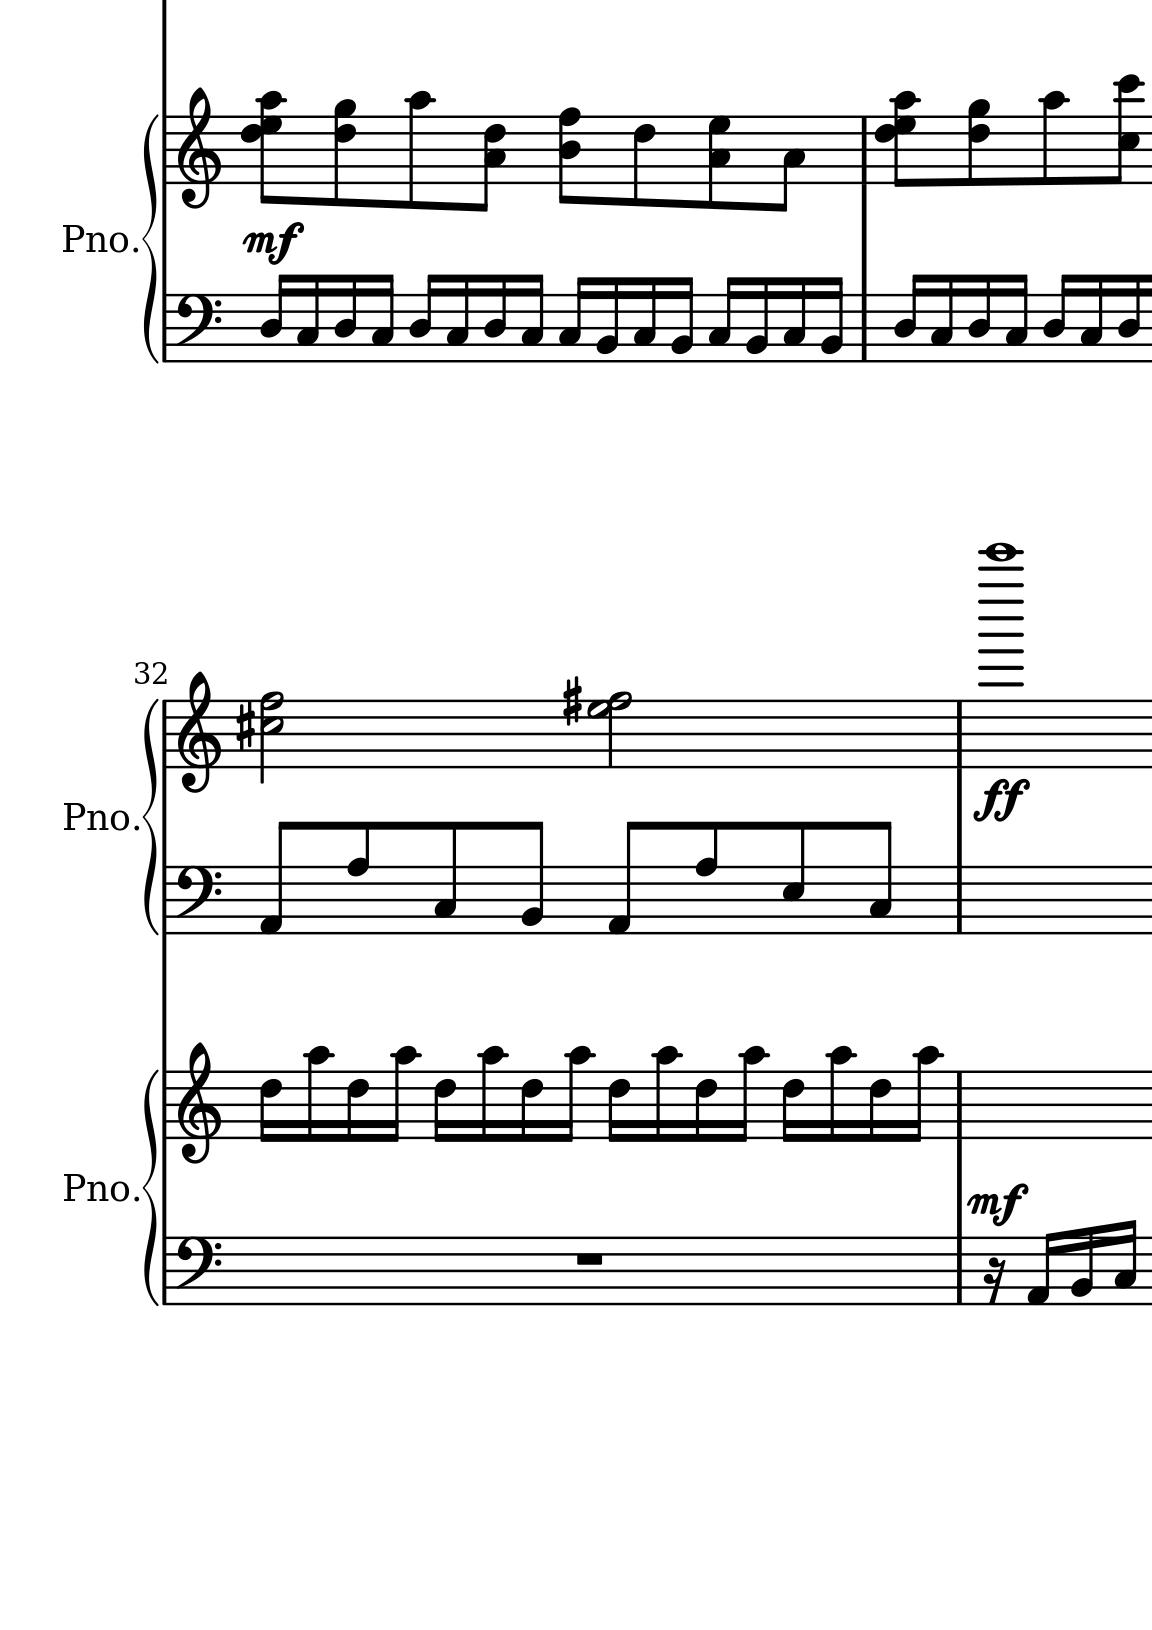16_1: (1026, 1229, 1060, 1308)
16_10: (383, 1043, 421, 1146), (732, 1043, 770, 1146), (557, 1043, 595, 1146), (906, 1043, 943, 1146), (304, 1046, 335, 1143), (478, 1046, 509, 1143), (652, 1046, 683, 1143), (827, 1046, 857, 1143)
16_2: (593, 275, 621, 365), (819, 275, 847, 364), (744, 275, 770, 364), (1068, 1225, 1096, 1307), (670, 275, 694, 365)
16_3: (556, 275, 590, 364), (706, 275, 739, 363), (928, 272, 956, 364), (294, 272, 322, 364), (444, 272, 471, 364), (1078, 273, 1106, 364), (631, 275, 658, 364), (780, 275, 808, 364), (519, 272, 545, 364), (369, 273, 395, 364), (1002, 273, 1029, 364), (1113, 1218, 1138, 1306)
16_4: (406, 270, 440, 364), (258, 272, 292, 364), (891, 272, 925, 364), (1041, 272, 1073, 364), (333, 272, 359, 364), (482, 272, 509, 364), (1117, 273, 1143, 364), (967, 273, 992, 364)
16_6: (257, 1069, 283, 1145), (431, 1069, 458, 1145), (344, 1069, 370, 1144), (693, 1069, 719, 1144), (519, 1069, 545, 1143), (607, 1069, 632, 1144), (780, 1070, 805, 1145), (868, 1069, 893, 1143)
2: (150, 660, 168, 685)
2_7_8: (586, 690, 635, 771)
3: (132, 660, 150, 685)
8_1: (254, 817, 295, 938), (603, 819, 645, 938)
8_10: (401, 88, 436, 212), (1040, 91, 1068, 187)
8_2: (517, 820, 546, 938)
8_3: (772, 113, 807, 216), (431, 819, 459, 938), (866, 819, 894, 938)
8_3_6: (475, 115, 505, 213)
8_3_7: (707, 113, 732, 212)
8_4_8: (559, 106, 582, 206)
8_5: (780, 820, 805, 938)
8_5_12: (1106, 72, 1145, 186)
8_6: (630, 113, 656, 207)
8_6_9: (333, 98, 357, 209), (967, 98, 991, 188)
8_8: (344, 817, 372, 937), (693, 819, 721, 936)
8_th: (238, 91, 286, 206), (878, 90, 918, 189)
Brace: (138, 110, 161, 363), (138, 1068, 160, 1311), (141, 697, 161, 940)
Fclef: (173, 861, 226, 936), (172, 289, 224, 363), (173, 1235, 224, 1294)
Gclef: (175, 85, 223, 211), (175, 1041, 223, 1166), (175, 670, 222, 795)
Pno: (62, 798, 130, 836), (61, 221, 130, 258), (62, 1170, 131, 1208)
Rests1: (571, 1247, 608, 1269)
Rests16: (982, 1256, 1007, 1306)
Sharp: (560, 675, 583, 728), (234, 700, 256, 753)
Single_barline: (948, 1072, 971, 1139), (852, 118, 875, 184), (948, 867, 971, 933), (949, 1237, 972, 1304), (853, 294, 874, 361), (949, 702, 970, 768), (157, 1070, 173, 1140), (157, 116, 173, 184), (158, 1237, 173, 1305), (158, 295, 173, 361), (158, 867, 173, 933), (158, 702, 172, 768), (602, 718, 616, 768)
ff: (974, 778, 1029, 825)
mf: (967, 1179, 1031, 1230), (243, 217, 305, 268)
